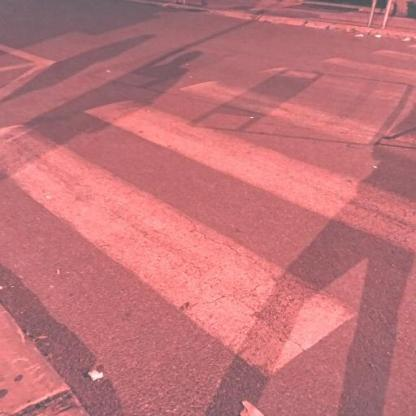crosswalk: (0, 95, 414, 384)
